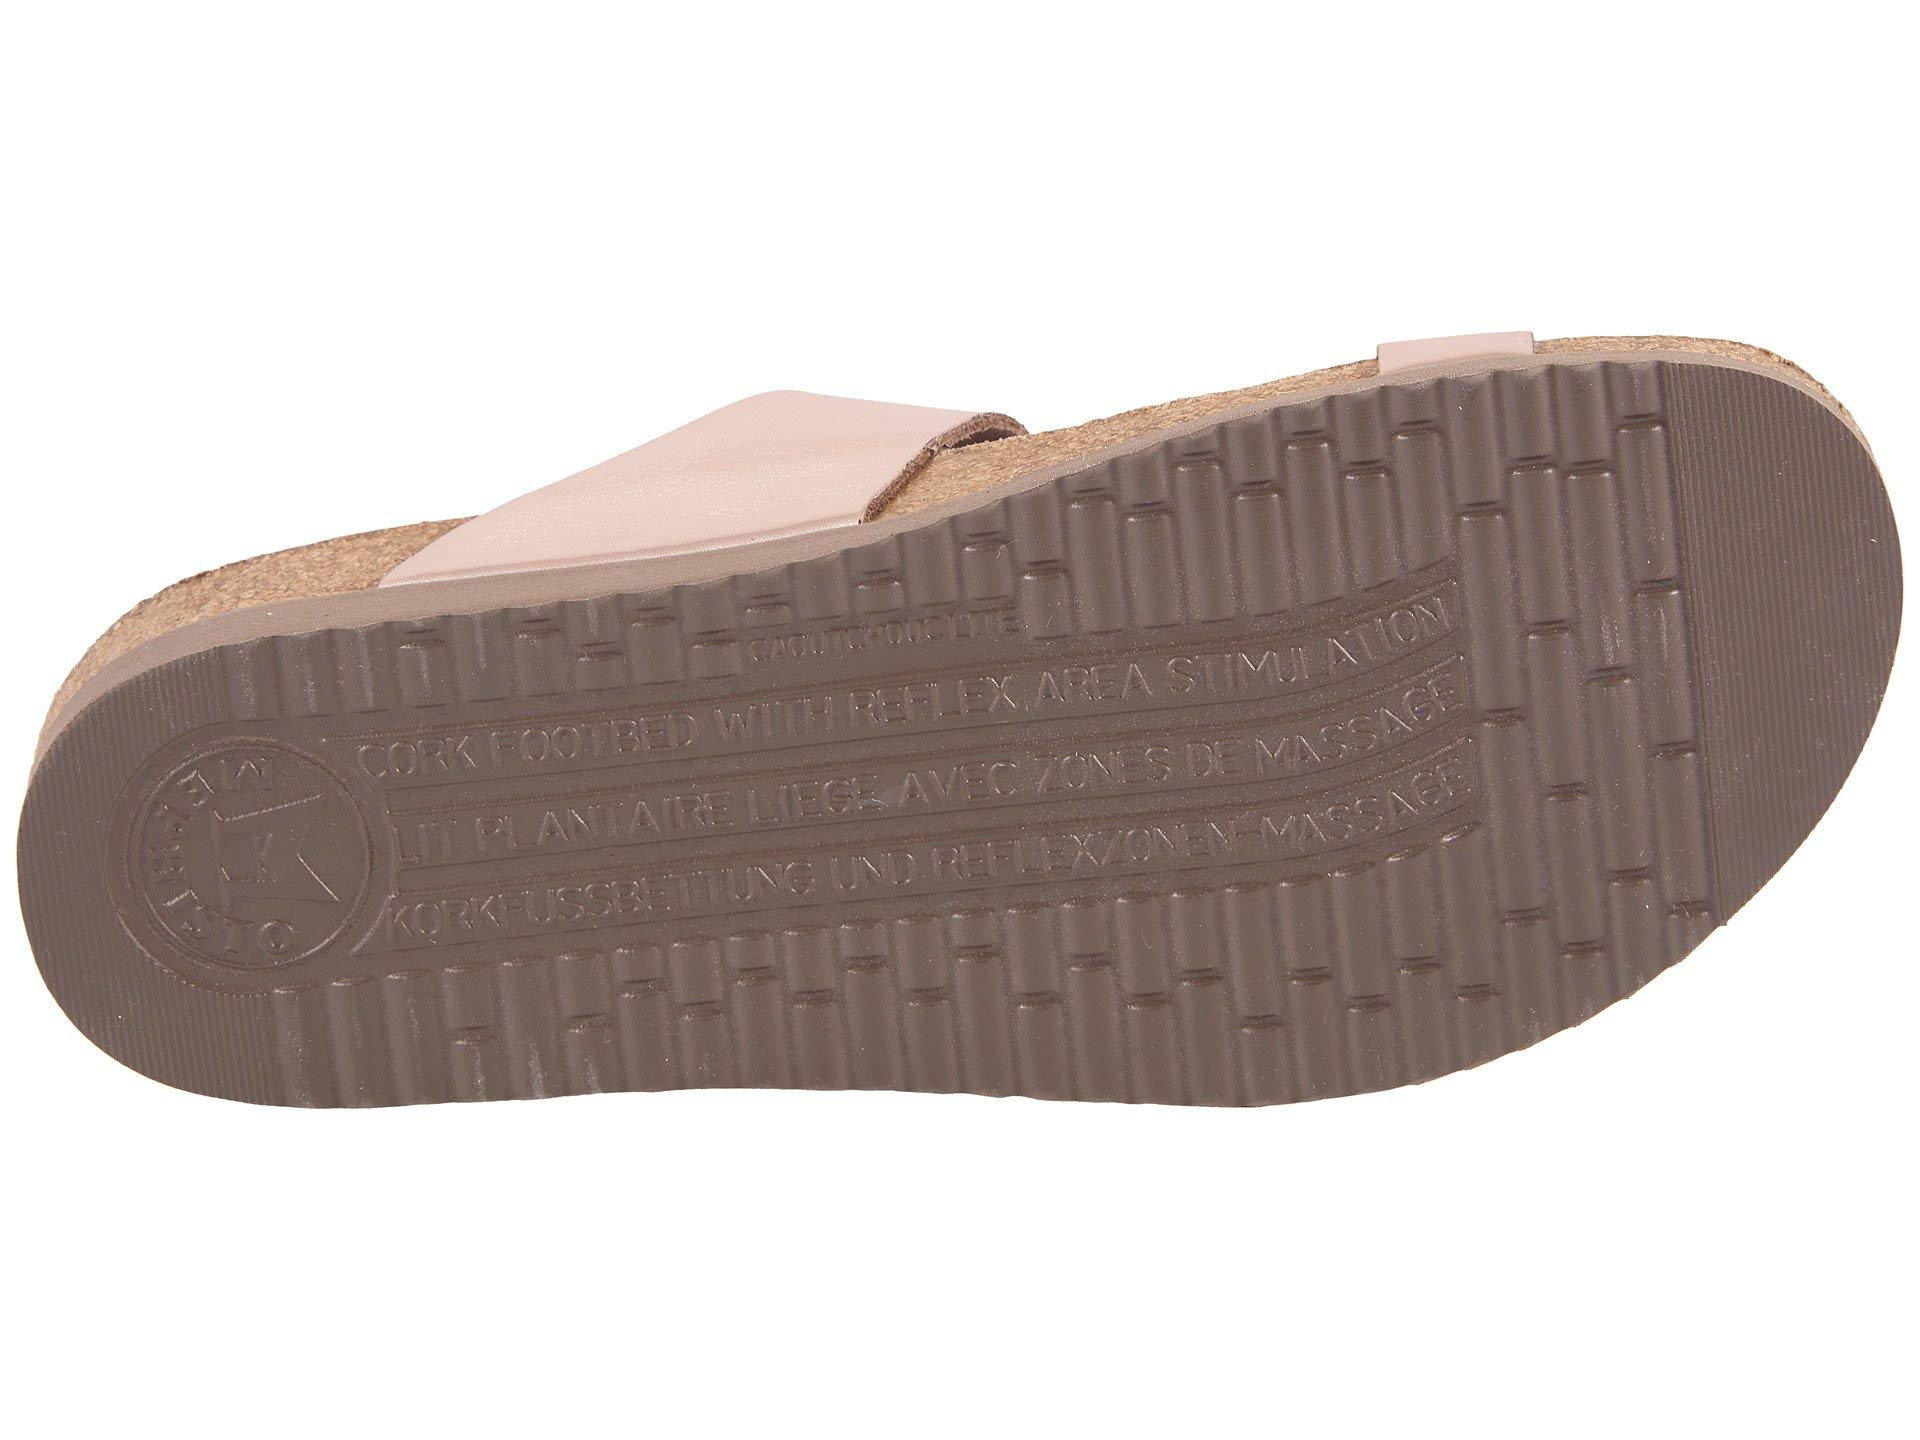circle: (705, 687, 1099, 905), (127, 697, 389, 976)
line: (705, 687, 1099, 905), (1144, 643, 1454, 870), (432, 702, 680, 953), (1731, 455, 1853, 781), (48, 805, 116, 980), (122, 991, 255, 1080)
quad: (1465, 396, 1696, 973), (770, 932, 1407, 1100), (283, 923, 748, 1094), (1067, 434, 1420, 637), (1144, 643, 1454, 870)
text: (705, 687, 1099, 905), (127, 697, 389, 976), (1144, 643, 1454, 870), (432, 702, 680, 953), (732, 594, 1016, 673)
triangle: (705, 687, 1099, 905), (1144, 643, 1454, 870), (432, 702, 680, 953)
